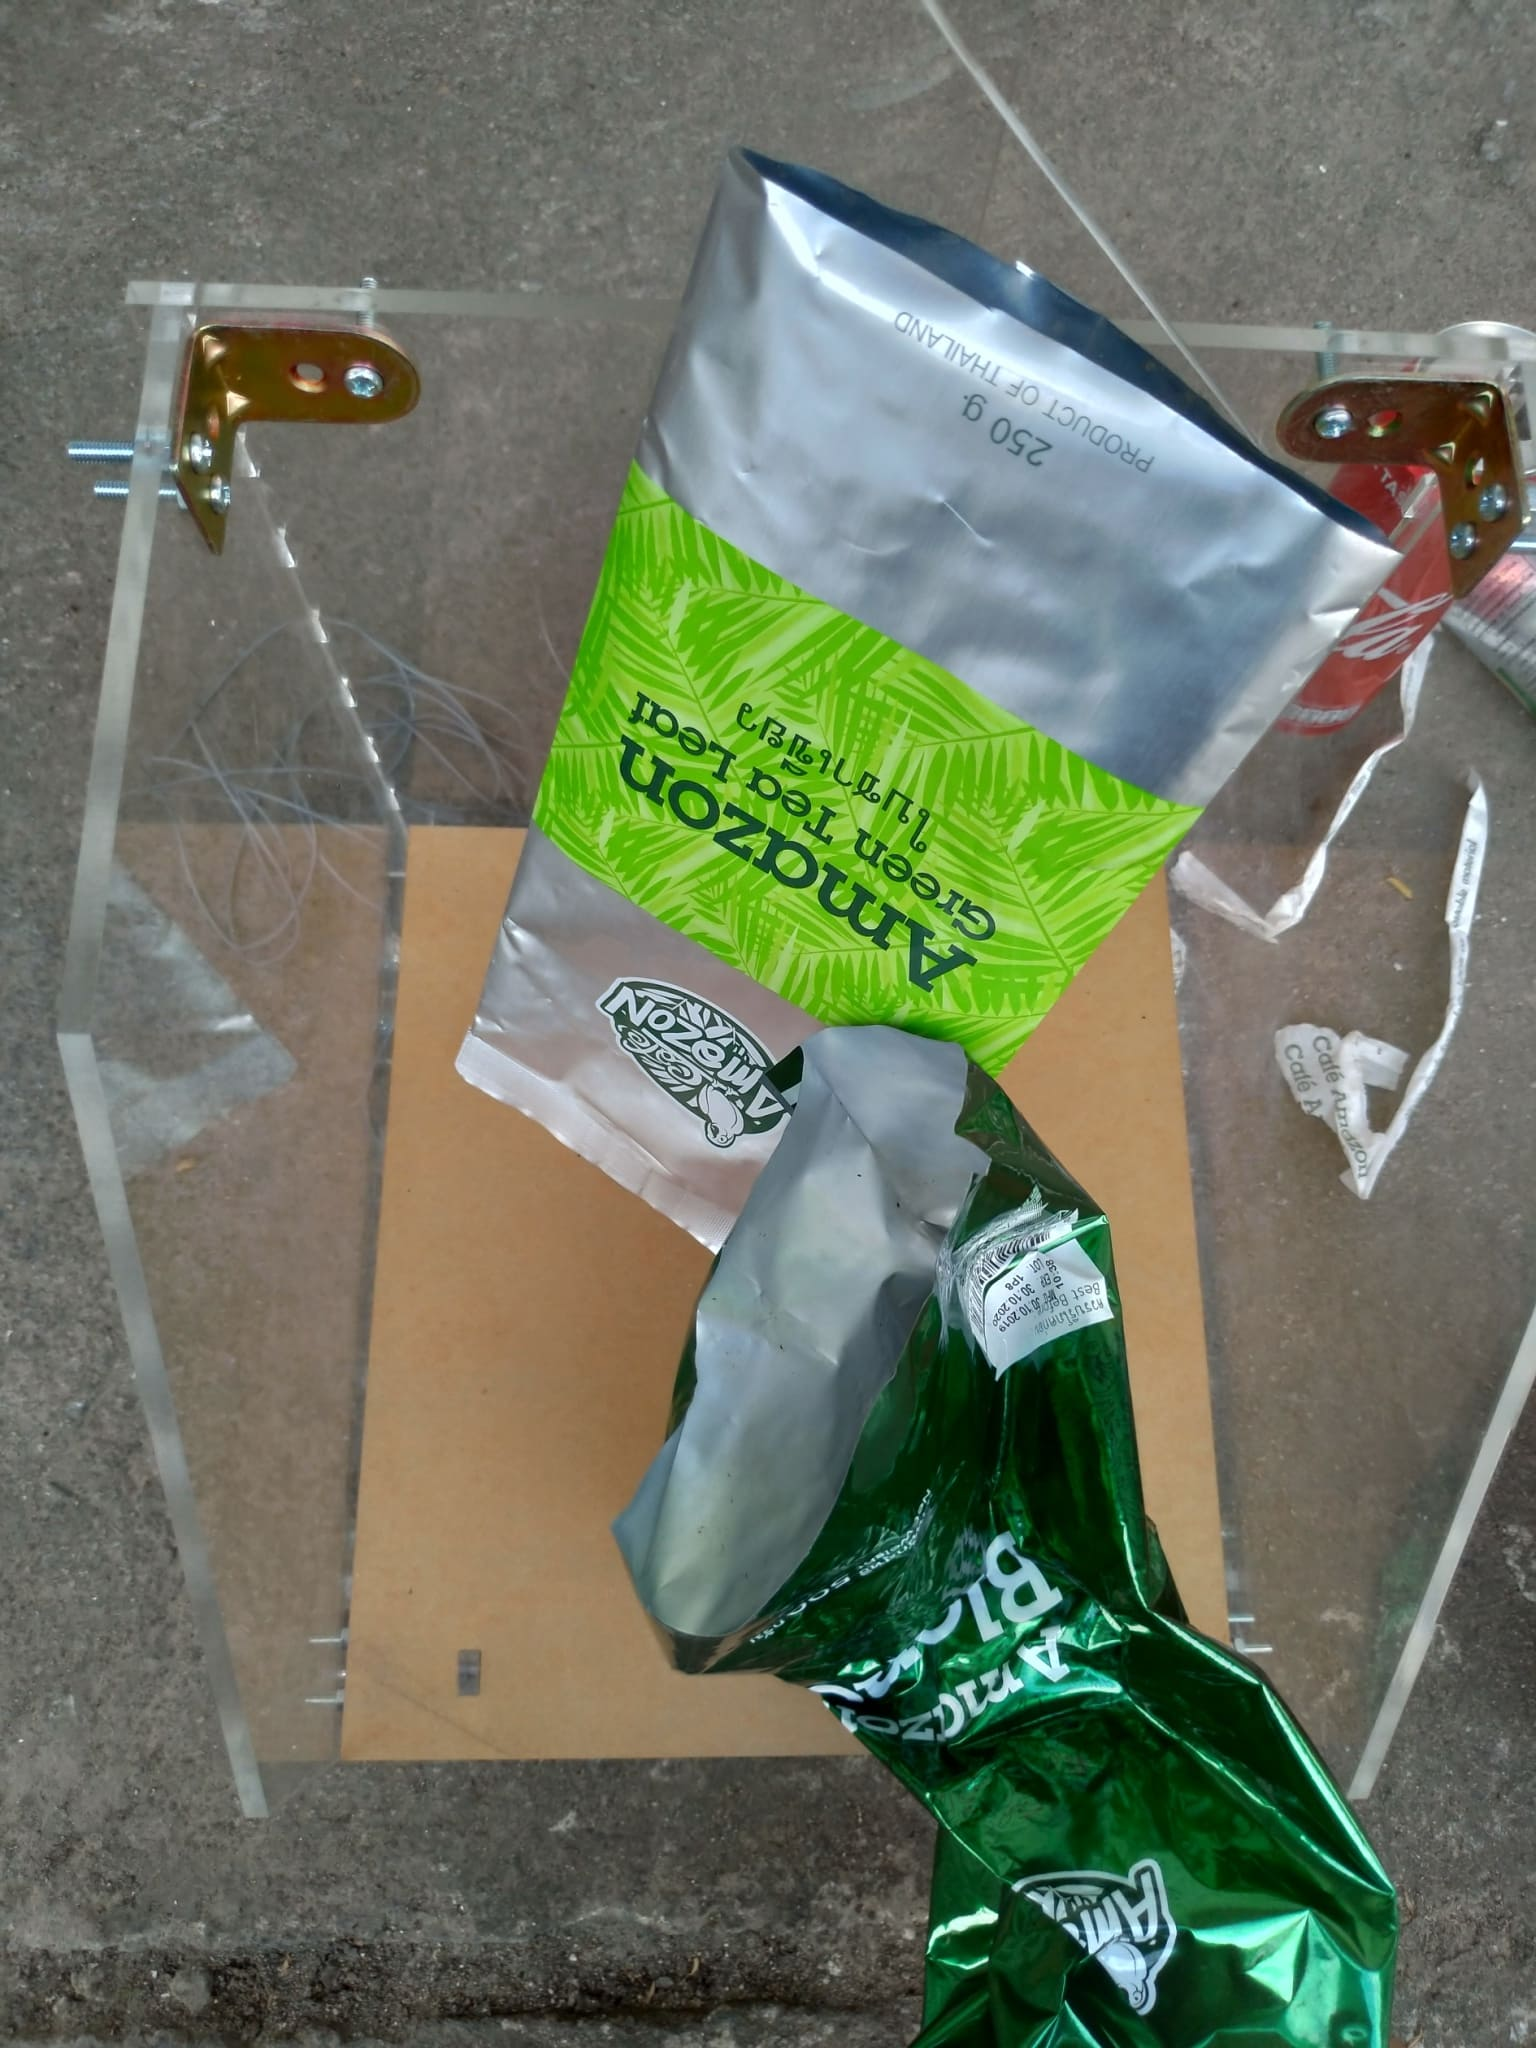AlCan: (1307, 314, 1530, 716)
Others: (453, 145, 1404, 1242), (616, 1034, 1392, 2048), (1160, 622, 1441, 942), (1294, 761, 1484, 1188)
